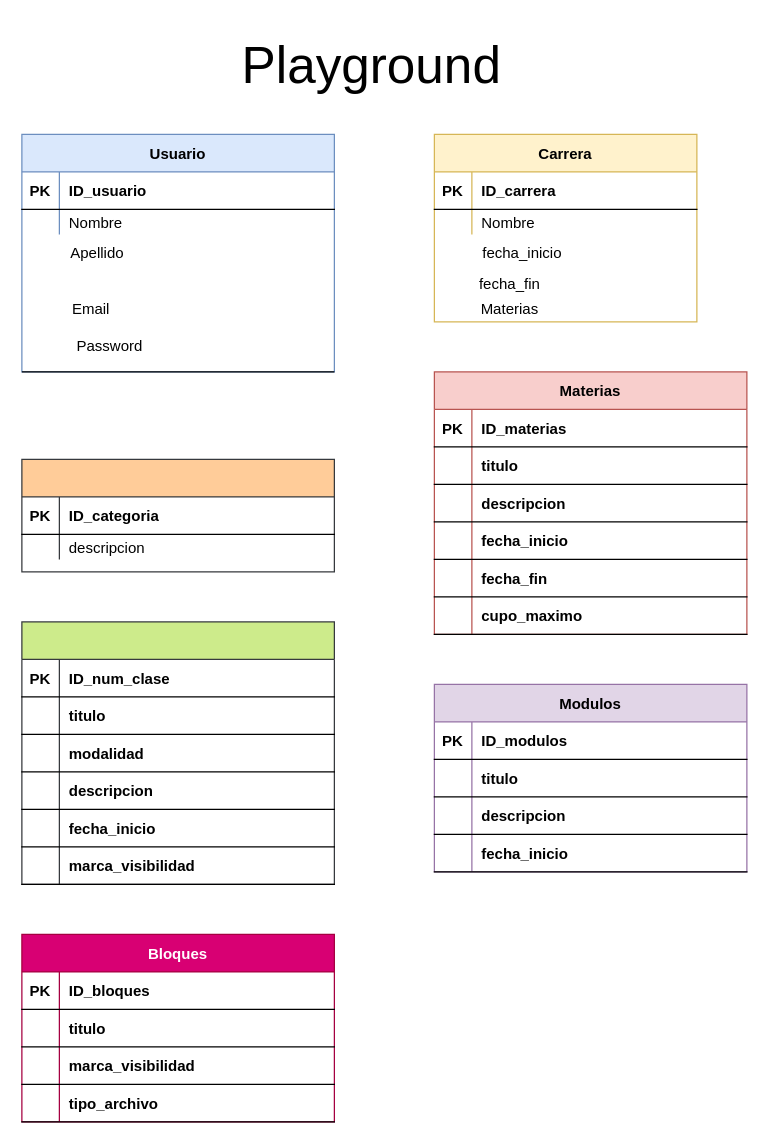
The diagram is 769 pixels wide and 1144 high, and some of its shapes have lost their labels. Here are the shapes that lost their labels. From the top down, the box of each, then its label:
(21, 458, 334, 572): Categoría
(21, 621, 334, 884): Clases
